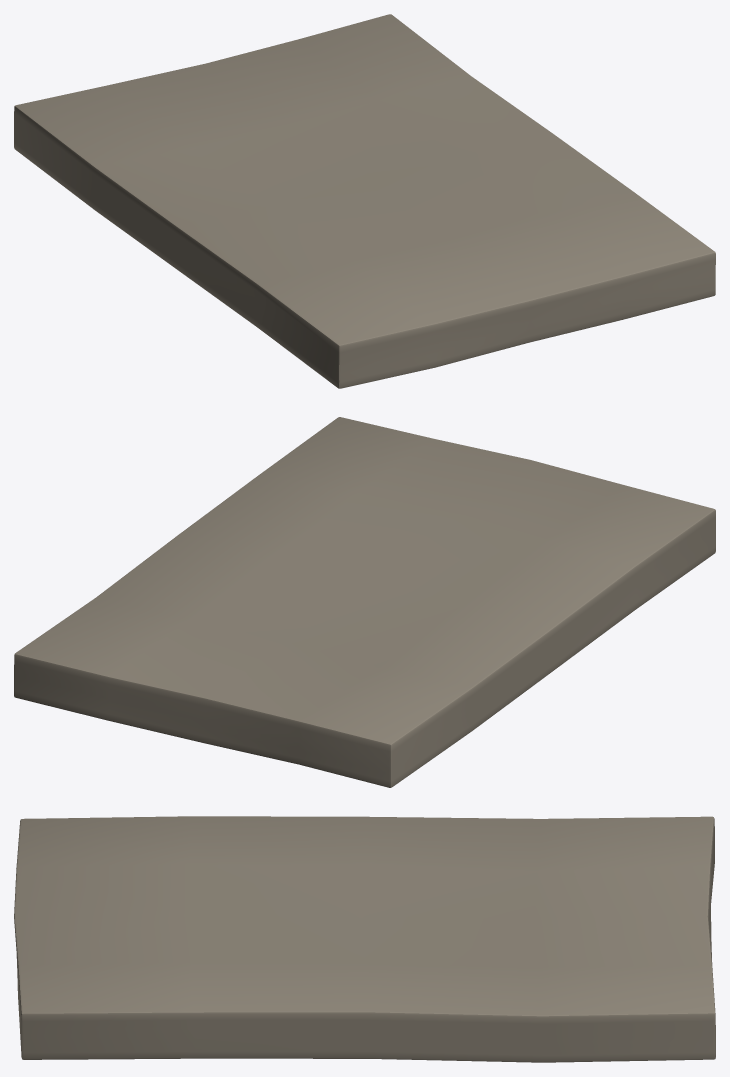
Rendered from PaperPile01.fbx.
3 renders of one model, top to bottom at view 1: azimuth 30°, elevation 25°; view 2: azimuth 150°, elevation 25°; view 3: azimuth 270°, elevation 25°, orthographic. The views are drawn at different scales.
Visible parts, largest first — view 1: Paper Pile 001; view 2: Paper Pile 001; view 3: Paper Pile 001.
Part boxes in pixels (<box>): Paper Pile 001: <box>14,14,715,388</box>; Paper Pile 001: <box>14,417,715,787</box>; Paper Pile 001: <box>14,816,715,1062</box>.
Size of the model in its own units: 20.5 by 2.62 by 30.82.
